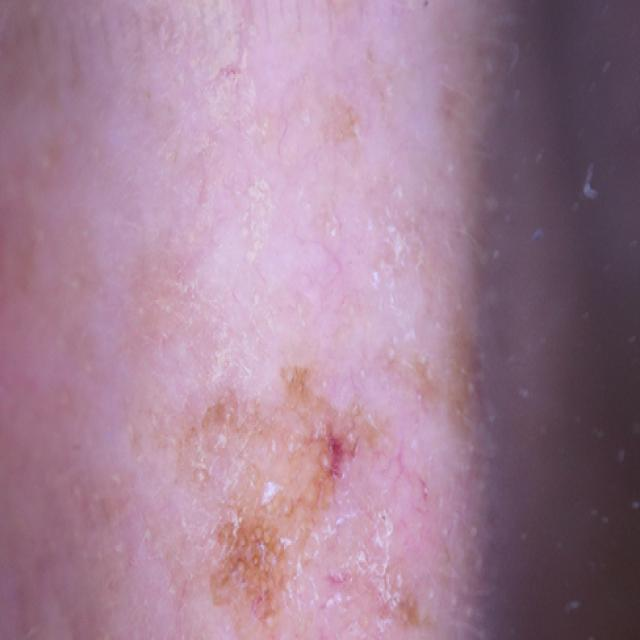Keratosis: (153, 304, 446, 640), (287, 73, 404, 210)
